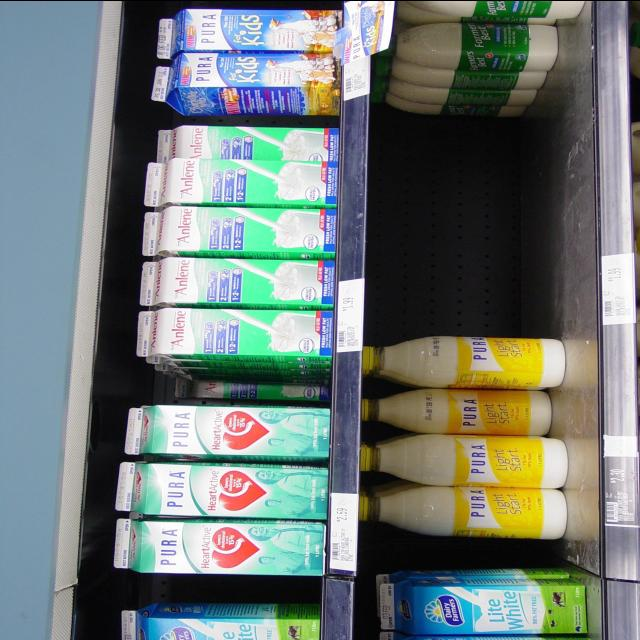empty_space: (388, 111, 582, 327)
